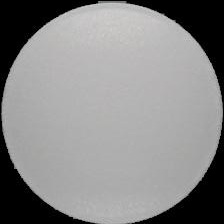55154-7230: (0, 0, 224, 224)
